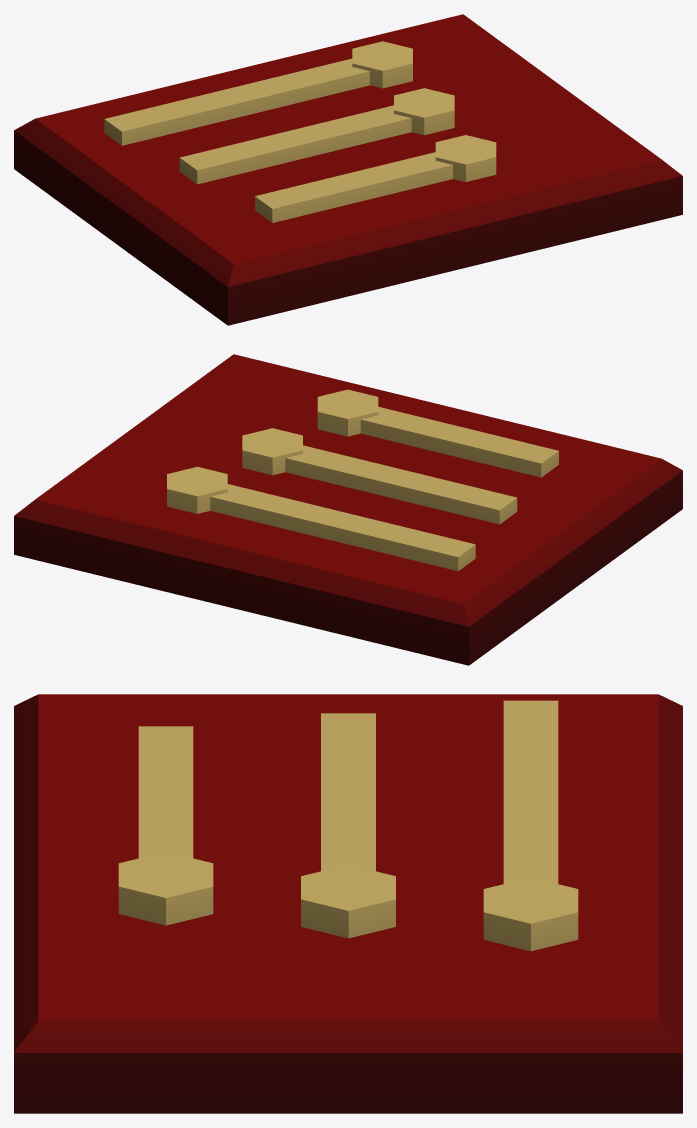
Rendered from advanced-circuit.glb.
3 views of the same model, one above another, from view 1: azimuth 30°, elevation 25°; view 2: azimuth 150°, elevation 25°; view 3: azimuth 270°, elevation 25° (orthographic). The views are drawn at different scales.
Parts seen in each view (by area): view 1: advanced-circuit; view 2: advanced-circuit; view 3: advanced-circuit.
Boxes of the visible parts, x1,y1,x2,y2 form: advanced-circuit: (14, 14, 682, 325); advanced-circuit: (14, 354, 682, 665); advanced-circuit: (14, 694, 682, 1113).
Size of the model in its own units: 0.27 by 0.04 by 0.22.
